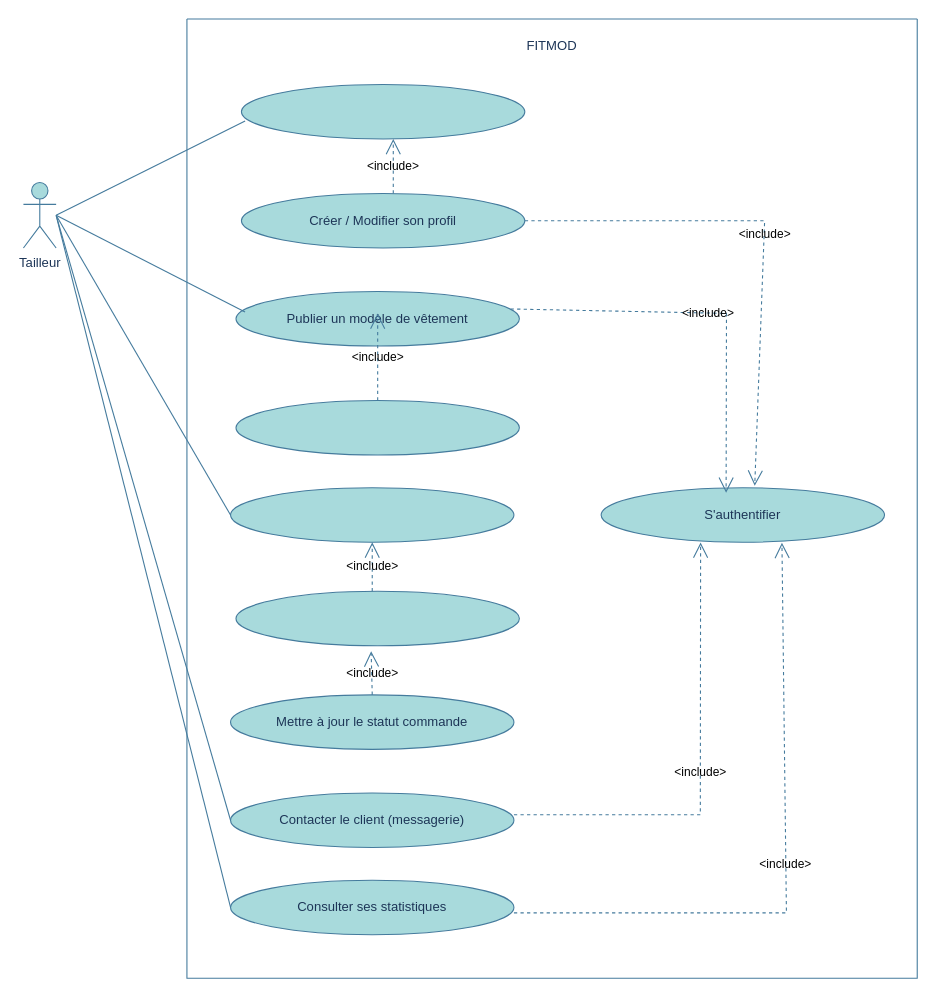
Image size: 936x997. Some labels were removed from this diagram. Here are the shapes that lost their labels. From the top down, the centre of each, then its label:
At point (382, 111): "S'inscrire".
At point (377, 427): "Modifier / Supprimer un modèle".
At point (371, 514): "Recevoir une commande".
At point (377, 618): "Accepter / Refuser une commande".
